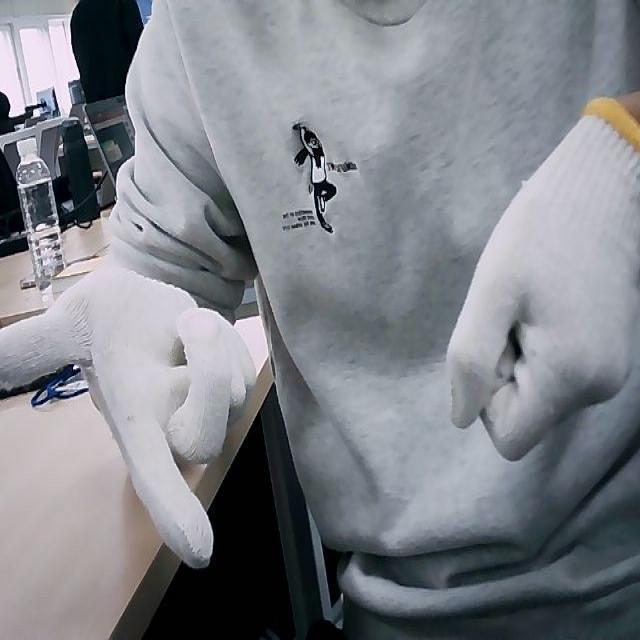gloves: (0, 266, 252, 570), (446, 94, 640, 459)
